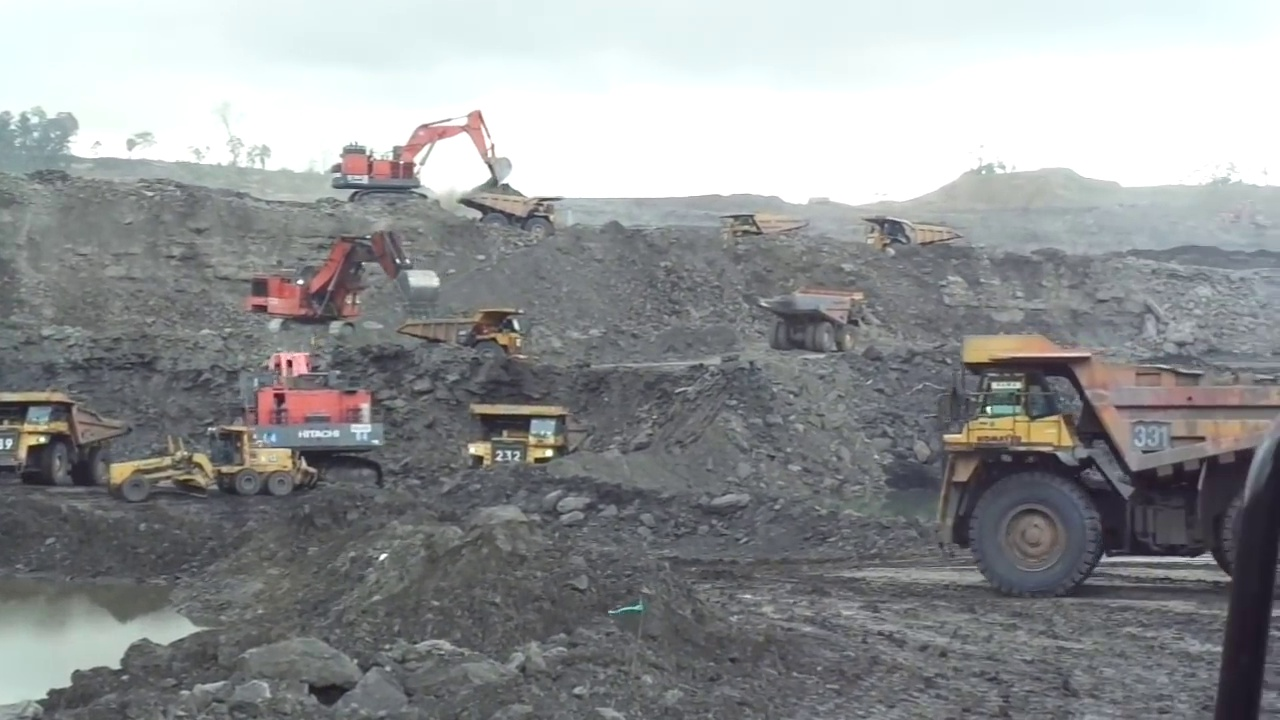dumper: (937, 325, 1280, 595), (1, 389, 129, 486), (466, 399, 595, 468), (748, 286, 863, 357), (388, 306, 524, 361), (457, 188, 562, 238), (864, 206, 962, 248), (719, 211, 810, 237)
excavator: (249, 351, 389, 495), (252, 230, 442, 335), (330, 111, 513, 210)
